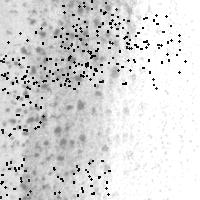pitted_surface: (6, 1, 129, 194), (160, 2, 196, 164), (40, 26, 98, 85), (99, 27, 155, 87), (126, 14, 184, 71), (42, 29, 97, 88), (0, 80, 52, 136), (75, 19, 129, 71), (52, 160, 109, 200), (0, 31, 35, 88), (62, 0, 118, 35), (0, 55, 33, 109), (0, 158, 29, 200)
